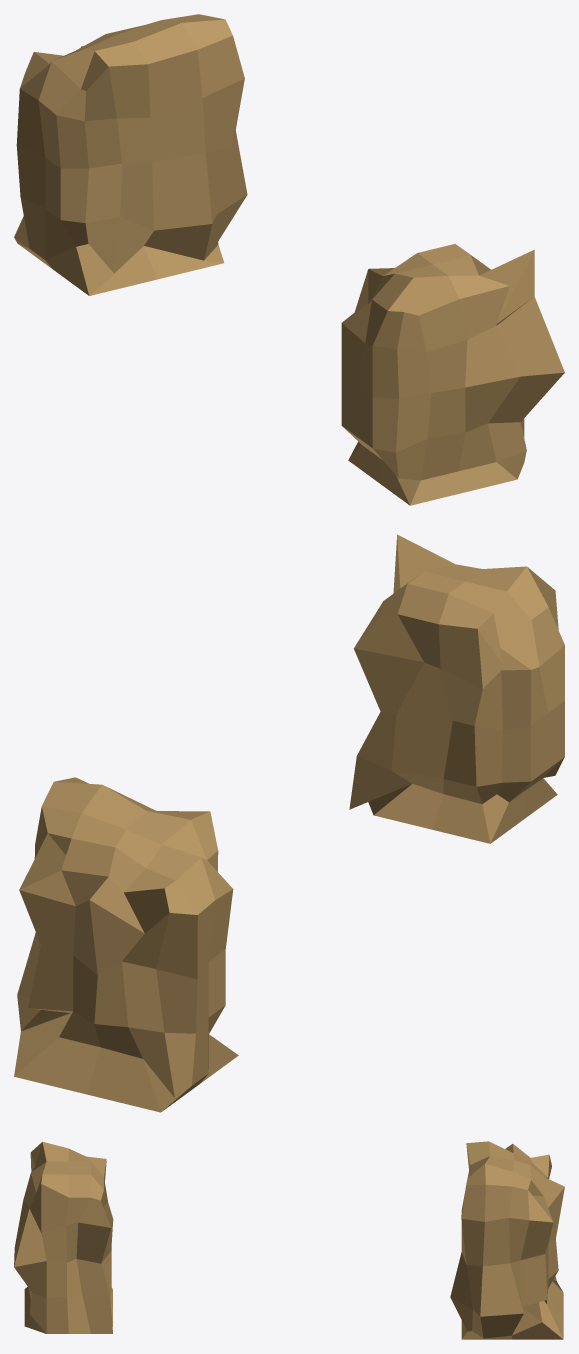
Rendered from Rocks.fbx.
3 views of the same model, one above another, from view 1: azimuth 30°, elevation 25°; view 2: azimuth 150°, elevation 25°; view 3: azimuth 270°, elevation 25° (orthographic). The views are drawn at different scales.
Visible parts, largest first — view 1: Rock.001, Rock; view 2: Rock.001, Rock; view 3: Rock.001, Rock.
Part boxes in pixels (<box>): Rock.001: <box>14,14,247,295</box>; Rock: <box>341,244,564,505</box>; Rock.001: <box>14,777,238,1112</box>; Rock: <box>349,534,564,843</box>; Rock.001: <box>450,1141,564,1339</box>; Rock: <box>14,1141,113,1333</box>.
Size of the model in its own units: 365 by 433 by 1296.
1 material, 1 textured.
